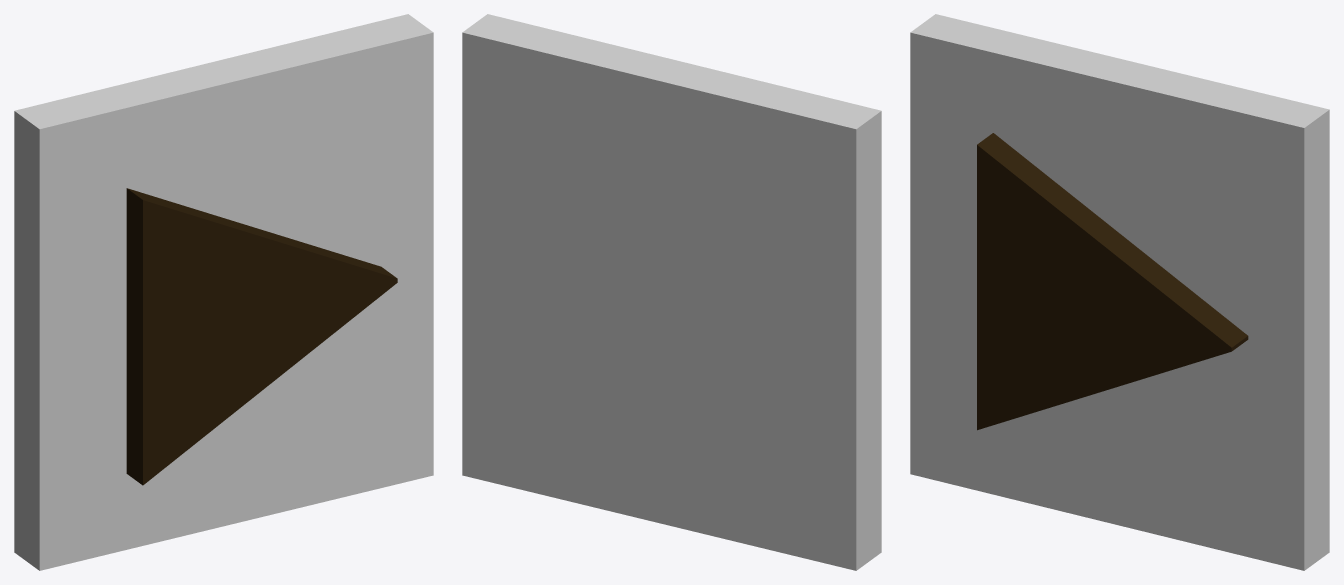
File: button_play.gltf
3 renders of one model, left to right at view 1: azimuth 30°, elevation 25°; view 2: azimuth 150°, elevation 25°; view 3: azimuth 330°, elevation 25°, orthographic.
Parts seen in each view (by area): view 1: ButtonPlay; view 2: ButtonPlay; view 3: ButtonPlay.
Boxes of the visible parts, x1,y1,x2,y2 form: ButtonPlay: (14,14,433,570); ButtonPlay: (462,14,881,570); ButtonPlay: (910,14,1329,570).
Size of the model in its own units: 0.1433 by 0.1539 by 0.0275.
